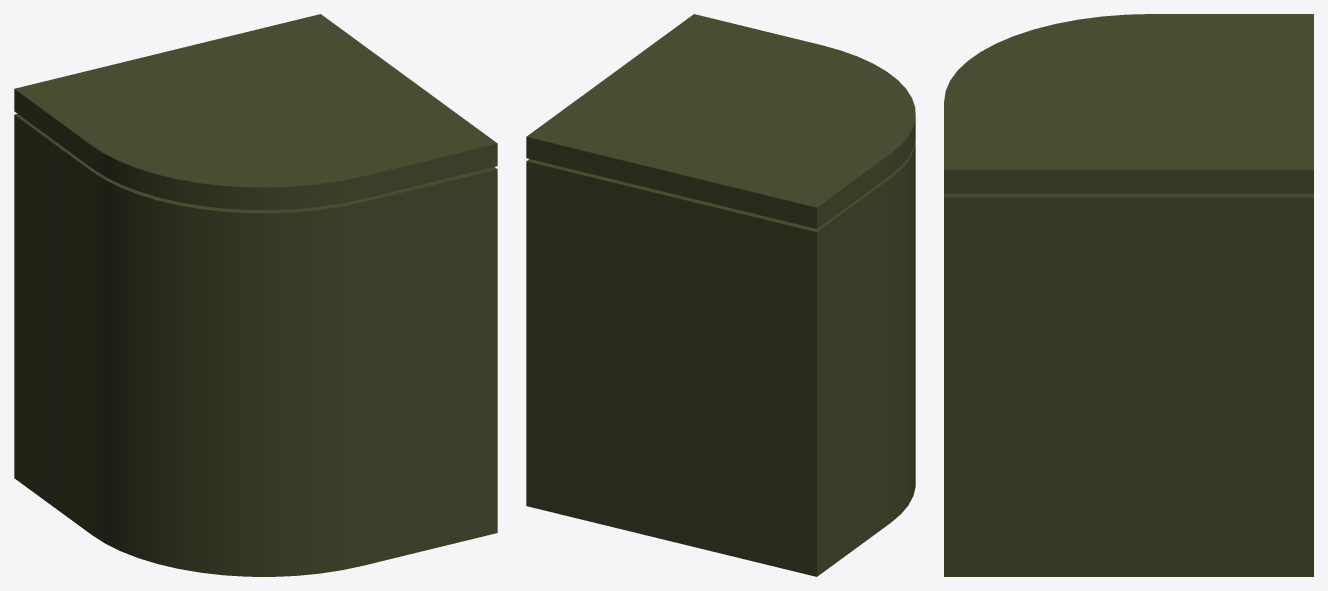
The model's file is EmergencySupplyBox.glb.
3 views of the same model, side by side, from view 1: azimuth 30°, elevation 25°; view 2: azimuth 150°, elevation 25°; view 3: azimuth 270°, elevation 25° (orthographic). The views are drawn at different scales.
Parts seen in each view (by area): view 1: Cube.010; view 2: Cube.010; view 3: Cube.010.
Part boxes in pixels (left/top/right/bottom): Cube.010: left=14, top=14, right=497, bottom=576; Cube.010: left=526, top=14, right=915, bottom=576; Cube.010: left=944, top=14, right=1313, bottom=576.
Bounding box in the file's own units: 0.9657 × 1.17 × 0.9657.
